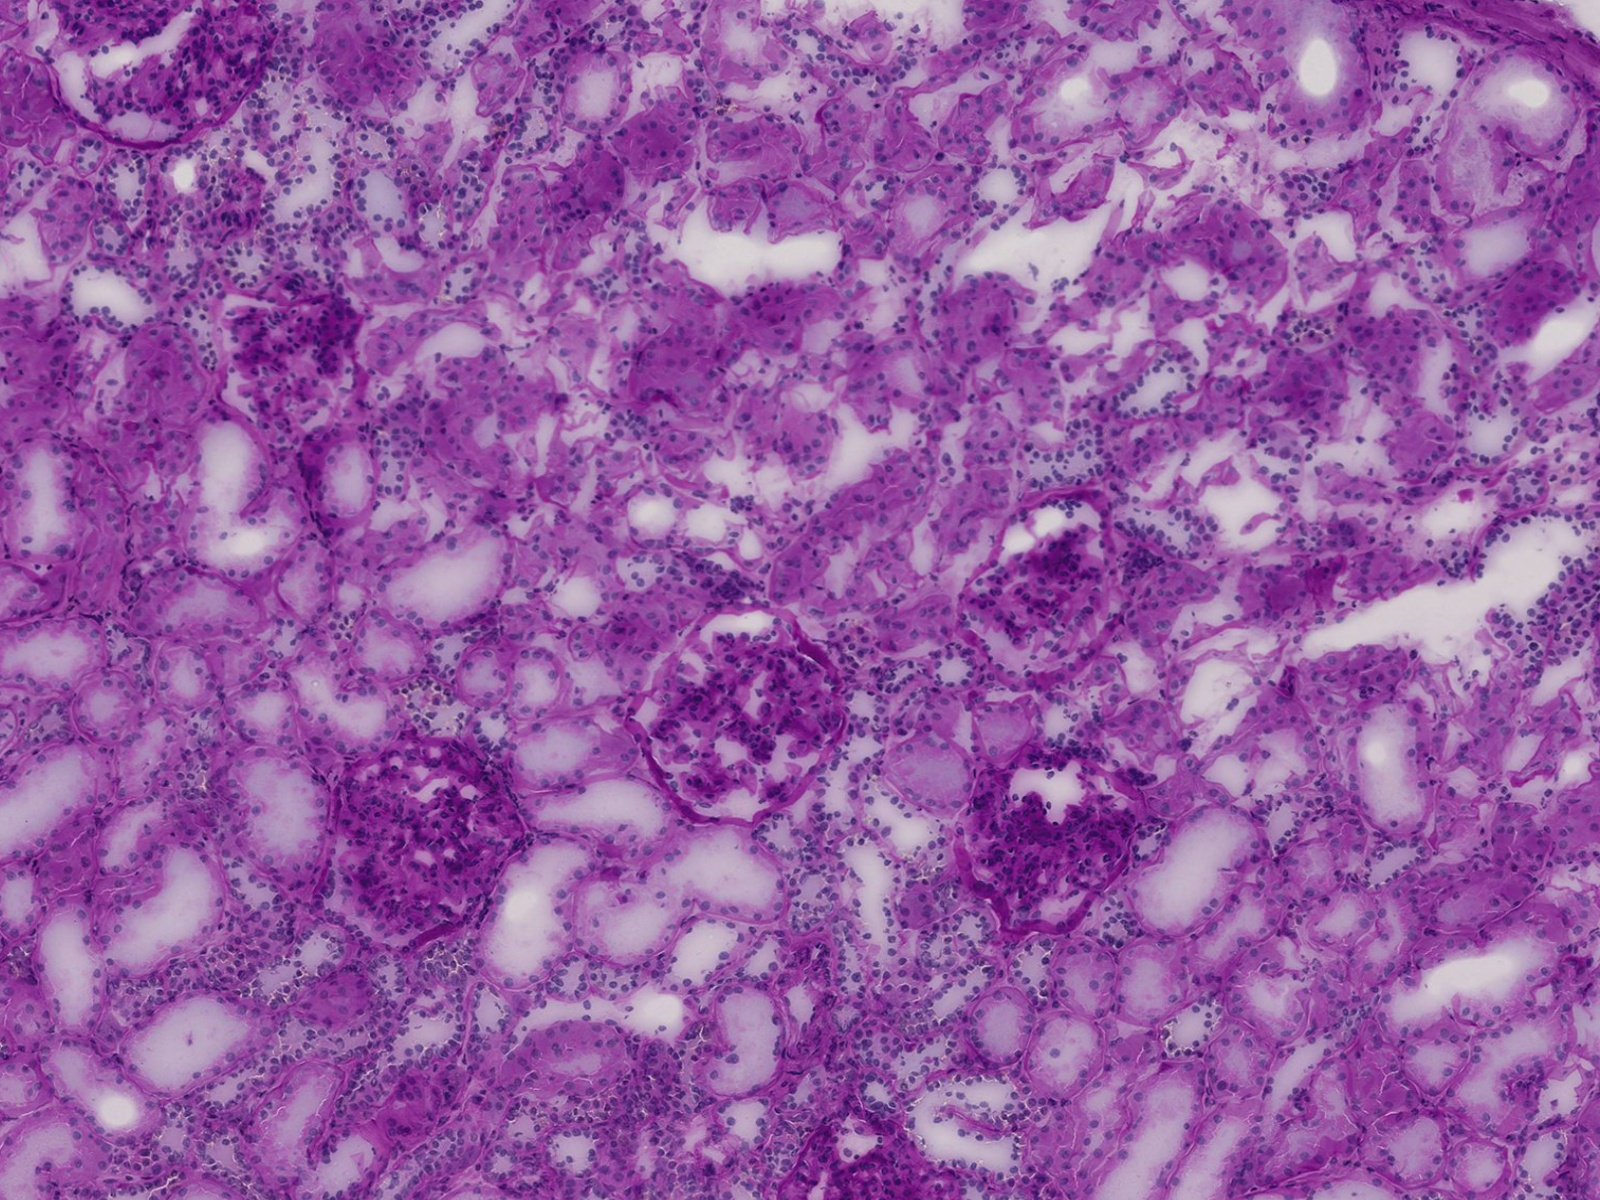Glomeruli: (624, 594, 854, 832), (315, 735, 535, 961), (951, 749, 1160, 935), (33, 5, 273, 146), (960, 495, 1133, 684), (224, 287, 368, 449), (792, 1111, 954, 1199)
